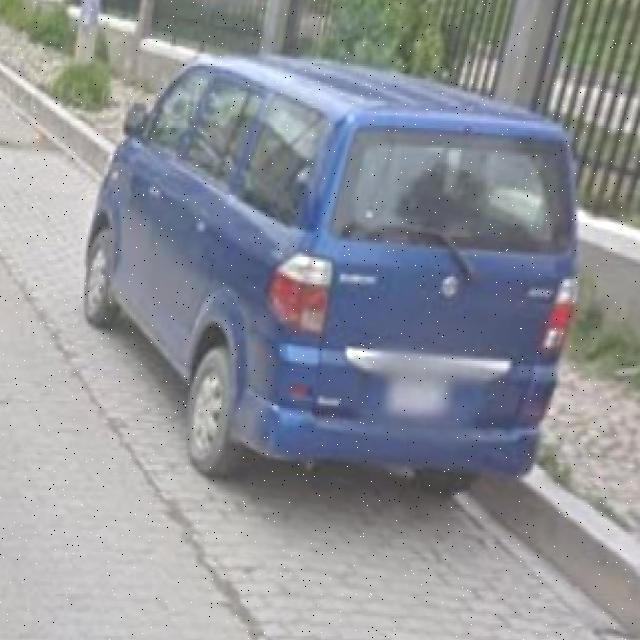car: (80, 28, 582, 517)
